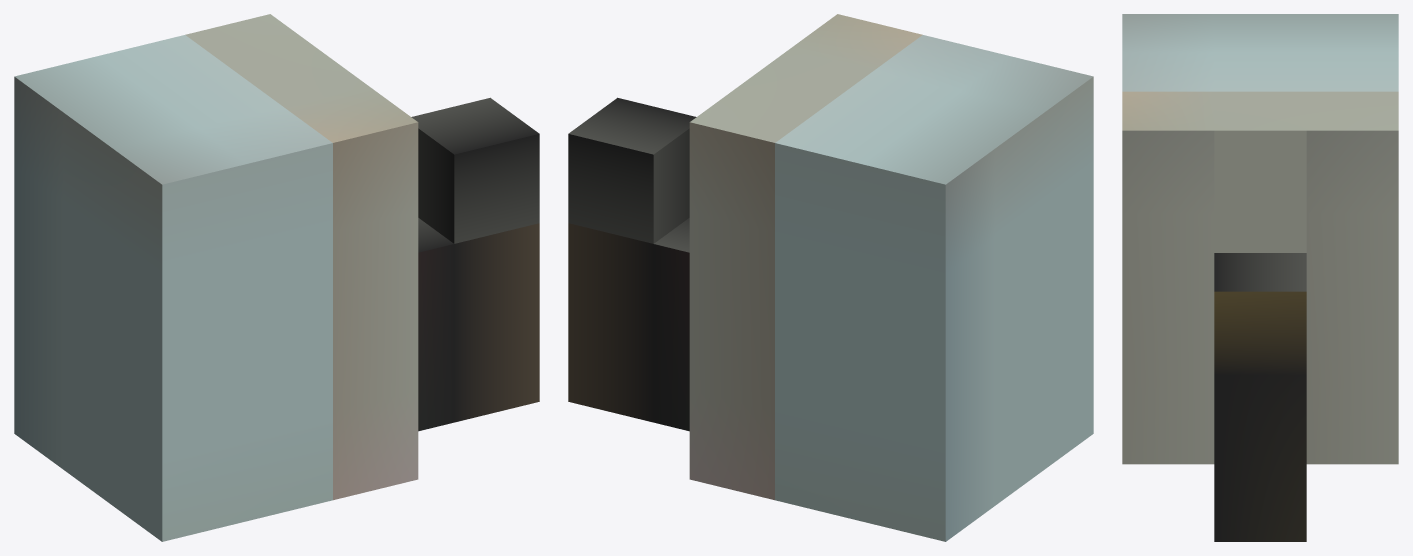
File: LampHangingSmall_08.obj
The picture shows the model from 3 angles, left to right: view 1: azimuth 30°, elevation 25°; view 2: azimuth 150°, elevation 25°; view 3: azimuth 270°, elevation 25°; orthographic projection. The views are drawn at different scales.
Visible parts, largest first — view 1: LampHangingSmall_08; view 2: LampHangingSmall_08; view 3: LampHangingSmall_08.
Part boxes in pixels (bbox=[...]): LampHangingSmall_08: bbox=[14, 14, 539, 541]; LampHangingSmall_08: bbox=[568, 14, 1093, 541]; LampHangingSmall_08: bbox=[1122, 14, 1398, 541].
Bounding box in the file's own units: 0.25 × 0.2 × 0.15.
